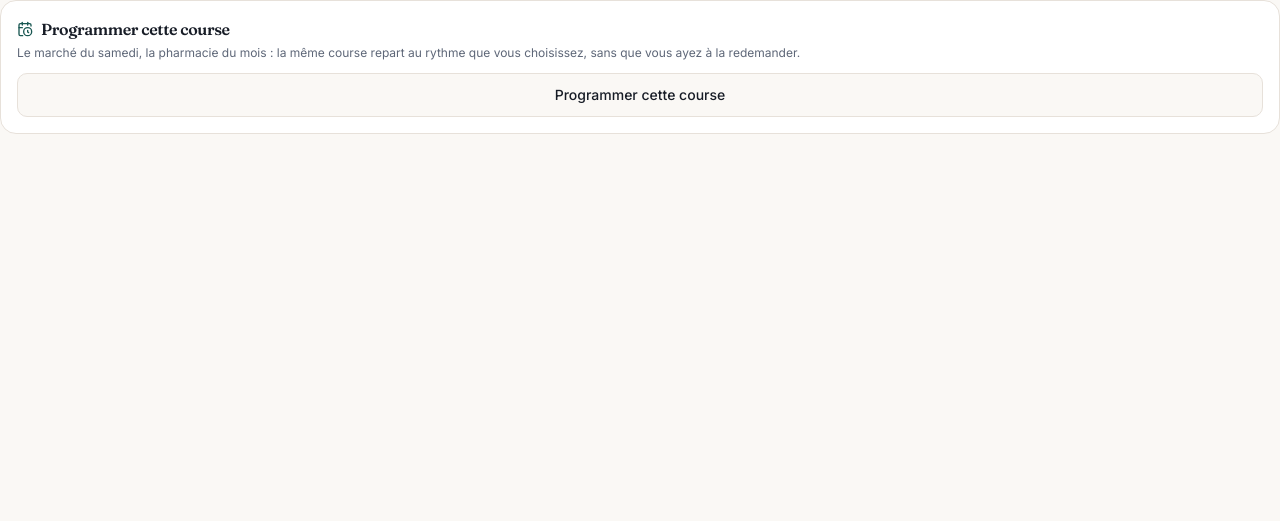
Test: programmation d'une course › refuse d'envoyer un nom que la base rejetterait
Click the button "Programmer cette course" at {"x": 640, "y": 95}, box top-left (17, 73), bottom-right (1263, 117)
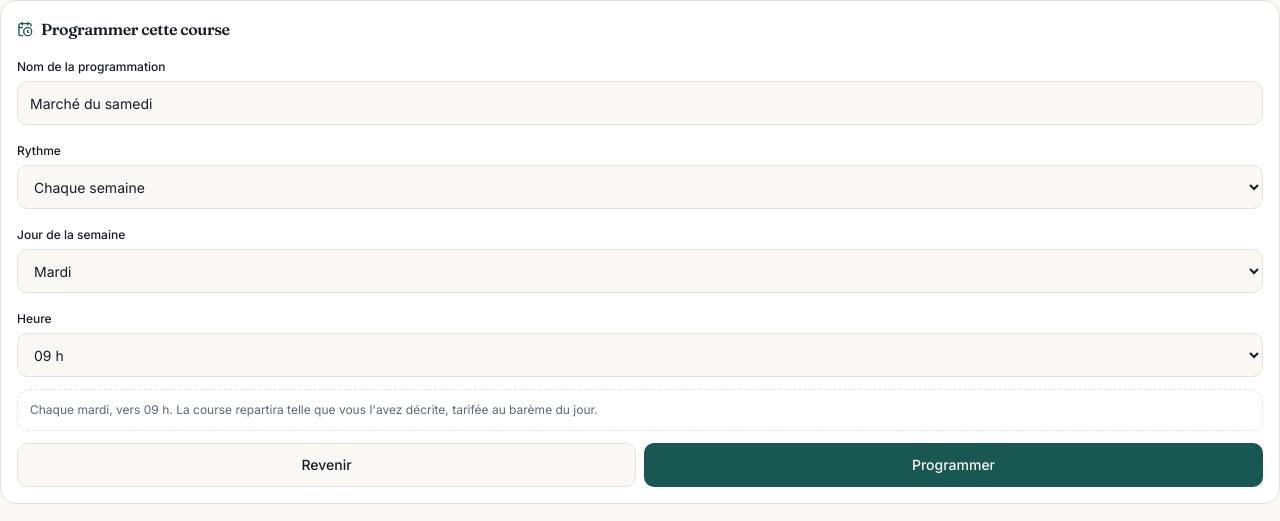
Note: La table exige un libellé d'au moins deux caractères une fois découpé.
Replace the text in the field labelled "Nom de la programmation" with " a " at {"x": 640, "y": 103}, box top-left (17, 81), bottom-right (1263, 125)
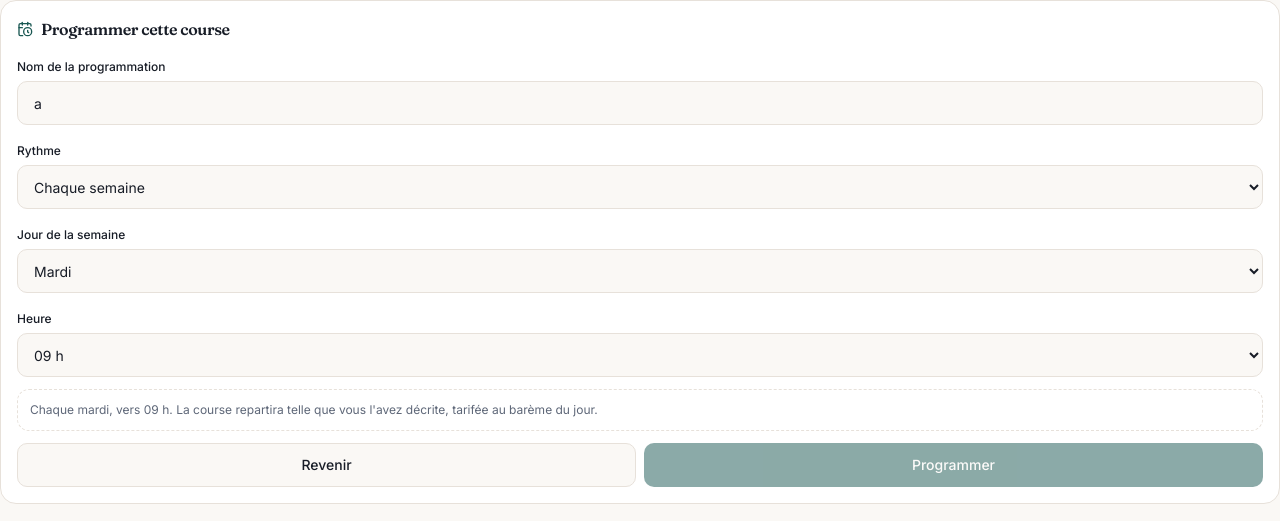
Expected: the button "Programmer" is disabled, top-left (644, 443), bottom-right (1263, 487)
